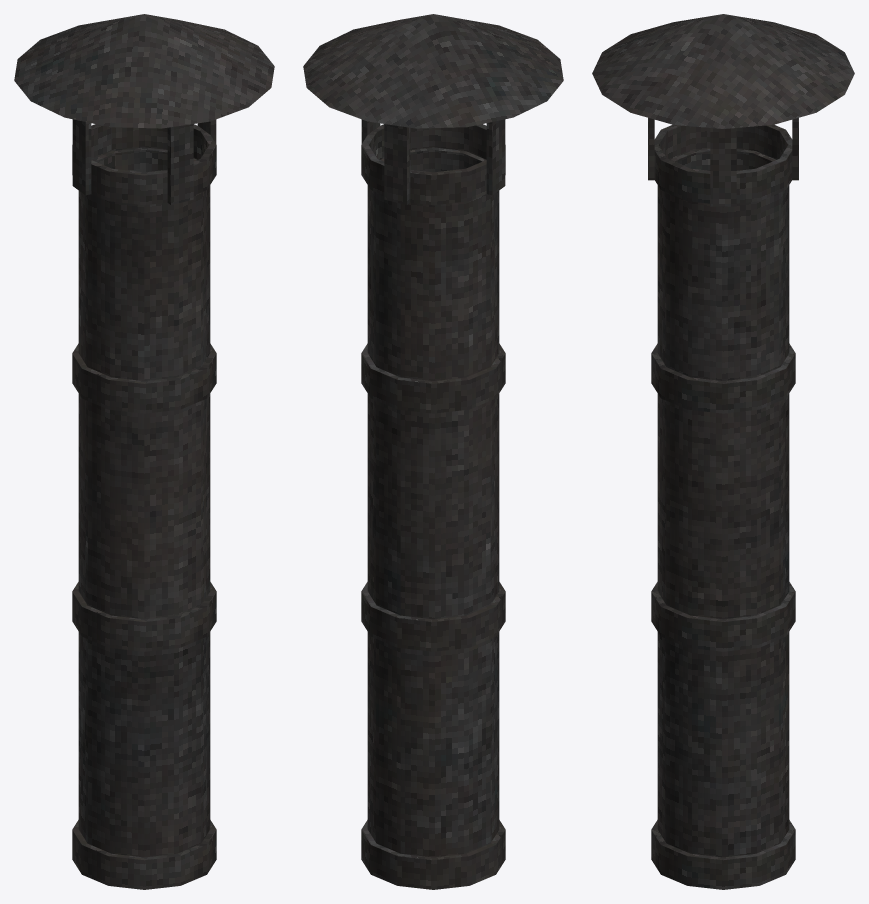
Rendered from chimney_a_2.glb.
3 renders of one model, left to right at view 1: azimuth 30°, elevation 25°; view 2: azimuth 150°, elevation 25°; view 3: azimuth 270°, elevation 25°, orthographic.
Visible parts, largest first — view 1: chimney_a_2; view 2: chimney_a_2; view 3: chimney_a_2.
Boxes of the visible parts, <box> form: chimney_a_2: <box>14,14,274,889</box>; chimney_a_2: <box>303,14,563,889</box>; chimney_a_2: <box>592,14,854,889</box>.
Size of the model in its own units: 0.4 by 1.42 by 0.4.
Materials: 1 (1 with a texture image).
